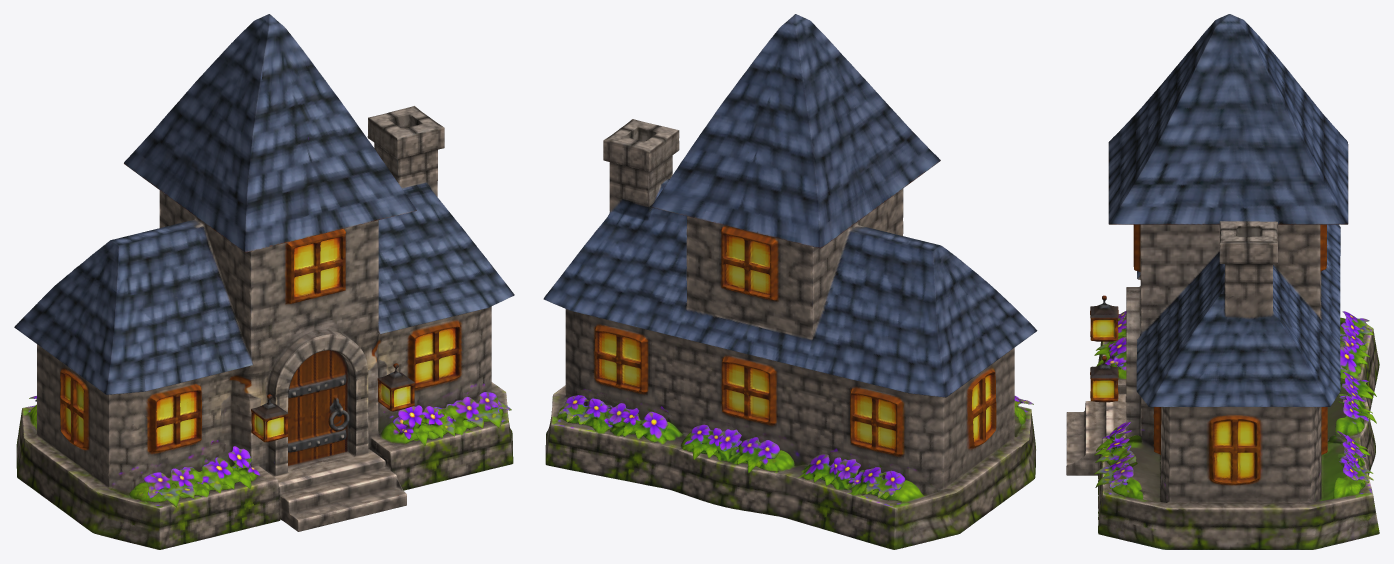
The model's file is casa1.glb.
3 views of the same model, side by side, from view 1: azimuth 30°, elevation 25°; view 2: azimuth 150°, elevation 25°; view 3: azimuth 270°, elevation 25° (orthographic).
Bounding box in the file's own units: 1.88 × 1.9 × 1.24.
1 material, 1 textured.
